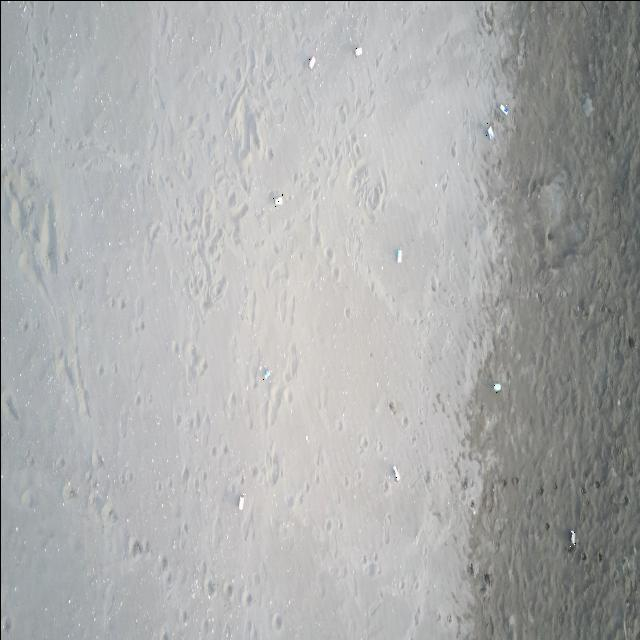Garbage: (580, 95, 592, 116), (484, 124, 493, 140), (273, 193, 283, 206), (261, 367, 271, 380), (569, 528, 575, 547), (392, 464, 399, 480), (238, 492, 244, 510), (395, 248, 402, 263), (499, 103, 507, 115), (308, 56, 315, 68), (492, 383, 500, 392), (355, 47, 362, 55)
